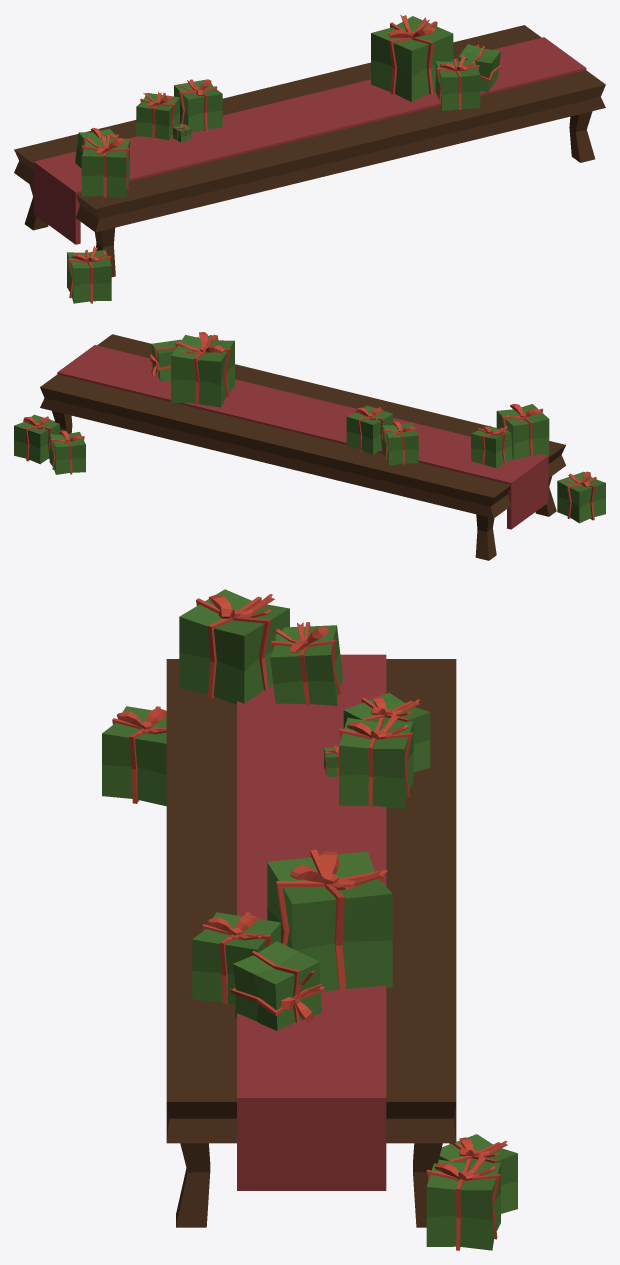
Rendered from laud1.fbx.
3 renders of one model, top to bottom at view 1: azimuth 30°, elevation 25°; view 2: azimuth 150°, elevation 25°; view 3: azimuth 270°, elevation 25°, orthographic. The views are drawn at different scales.
Visible parts, largest first — view 1: Cube.002; view 2: Cube.002; view 3: Cube.002.
Part boxes in pixels (bbox=[...]): Cube.002: bbox=[14, 14, 605, 303]; Cube.002: bbox=[14, 332, 605, 560]; Cube.002: bbox=[102, 589, 517, 1250].
Bounding box in the file's own units: 222 × 53.57 × 79.76.
